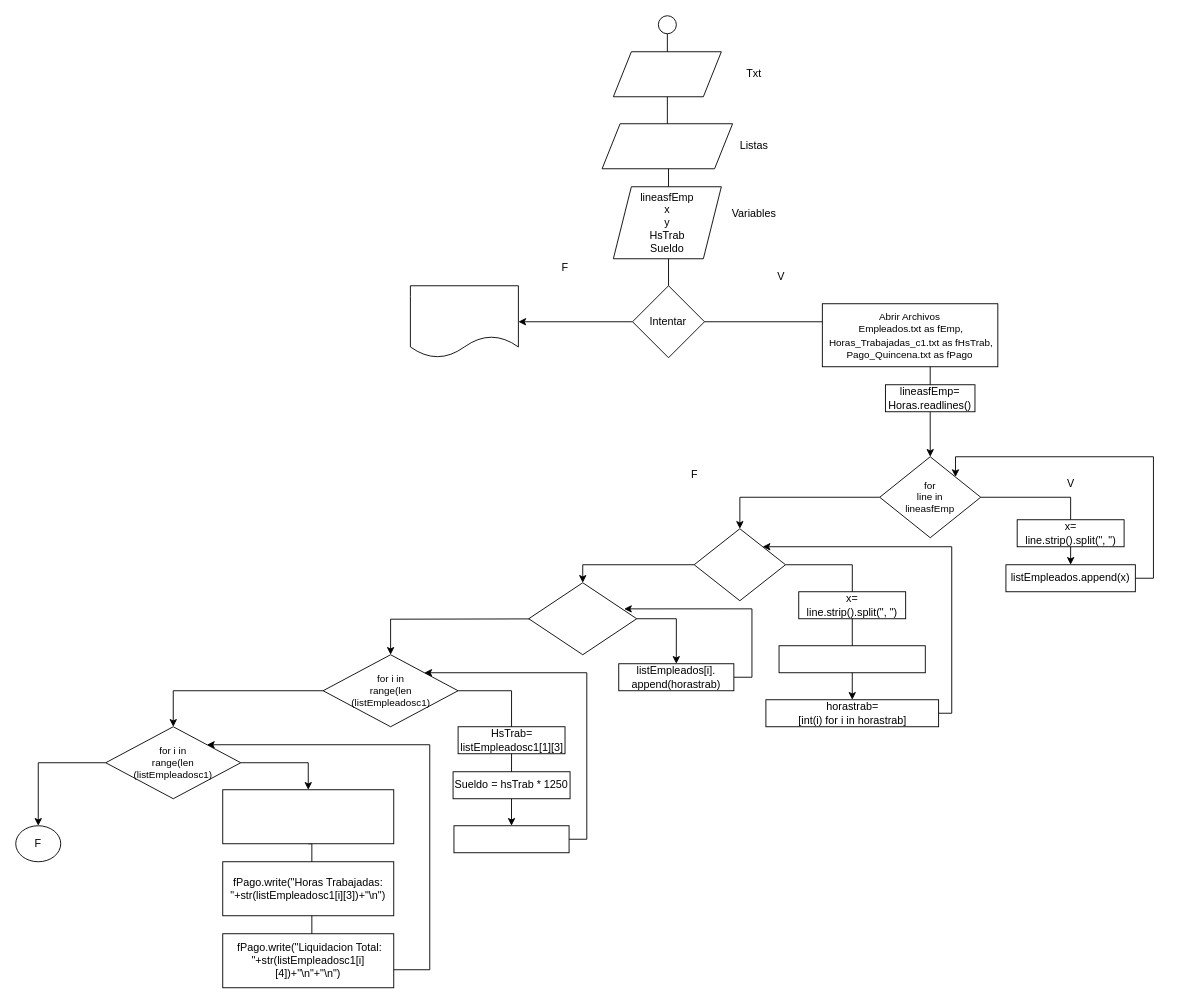
Some shapes in this 1177 by 1004 pixel diagram are drawn without their labels. Here are the shapes that lost their labels. From the top down, the centre of each, then its label:
point (666, 74): Empleados HorasTrabajadas PagoQuincena
point (667, 146): listEmpleados listEmpleadosc1 horastrab
point (464, 321): "Se ha detectado un error: " Exepcion
point (739, 564): for line in fHsTrab
point (582, 618): for i in range(len (listEmpleados)
point (851, 659): horastrab .append(y[1].replace("\n", ""))
point (308, 816): fPago.write("Nombre del Empleado: "+listEmpleadosc1[i][1]+"\n")
point (511, 839): listEmpleadosc1[i]. append(Sueldo)
